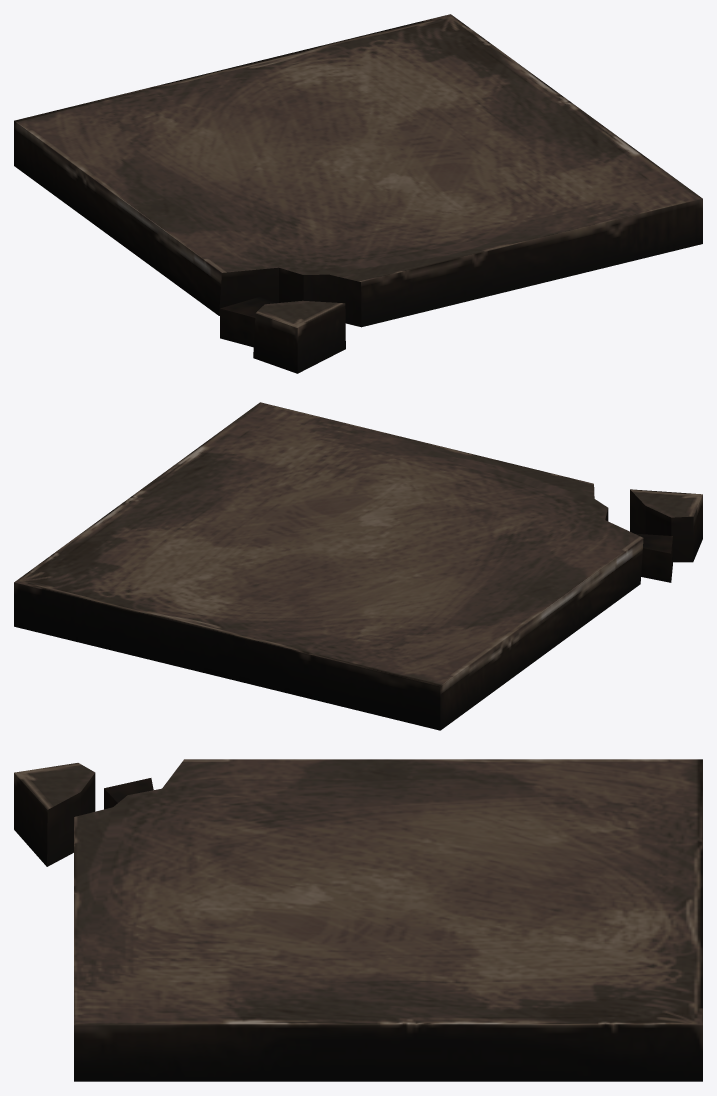
The model's file is tile02.FBX.
3 views of the same model, one above another, from view 1: azimuth 30°, elevation 25°; view 2: azimuth 150°, elevation 25°; view 3: azimuth 270°, elevation 25° (orthographic). The views are drawn at different scales.
Visible parts, largest first — view 1: Tile02; view 2: Tile02; view 3: Tile02.
Part boxes in pixels (x1,y1,x2,y2): Tile02: [14, 14, 702, 373]; Tile02: [14, 402, 702, 730]; Tile02: [14, 759, 702, 1081].
Size of the model in its own units: 40.74 by 4.55 by 43.12.
